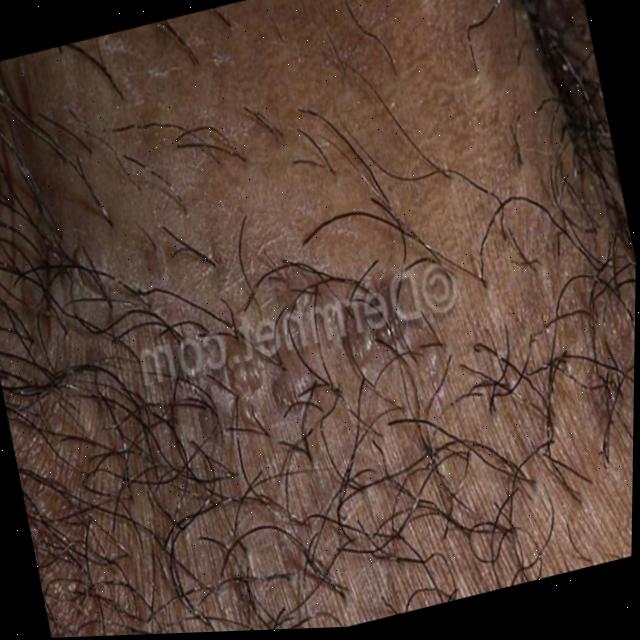Shingles: (347, 311, 416, 367), (227, 346, 274, 427), (264, 360, 317, 411)
